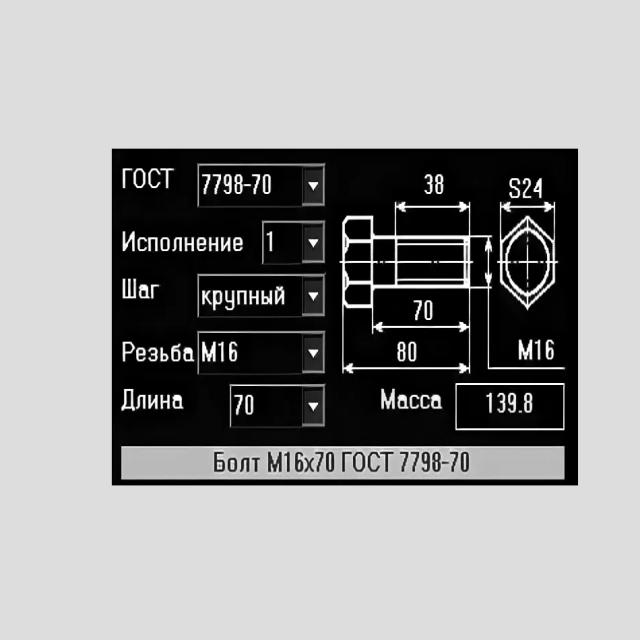marking_line: (346, 363, 467, 374), (373, 320, 468, 332), (399, 203, 469, 213), (504, 201, 554, 214), (483, 239, 492, 284)
numeric: (420, 172, 432, 199), (233, 391, 243, 420), (210, 170, 221, 196), (242, 393, 255, 415), (423, 296, 434, 321), (506, 390, 517, 414), (434, 171, 444, 197), (413, 296, 423, 322), (523, 394, 534, 417), (200, 171, 211, 194), (261, 174, 273, 195), (545, 337, 555, 362), (534, 176, 545, 197), (495, 391, 505, 414), (266, 229, 275, 254), (222, 174, 233, 194), (535, 338, 543, 365), (234, 173, 243, 197), (522, 177, 532, 197), (396, 341, 405, 363), (487, 390, 494, 418), (408, 343, 417, 364), (252, 174, 260, 195)
